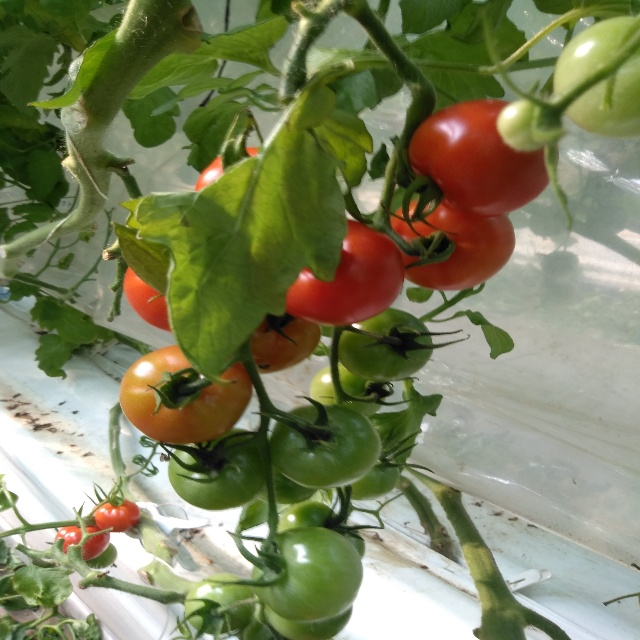l_fully_ripened: (408, 98, 559, 217), (285, 219, 405, 326), (385, 193, 517, 290), (123, 266, 172, 332), (54, 524, 110, 561), (95, 498, 140, 533)
l_green: (251, 527, 363, 622), (553, 17, 640, 138), (268, 403, 381, 489), (168, 429, 271, 511), (334, 307, 434, 382), (278, 500, 366, 559), (184, 572, 255, 634), (310, 362, 387, 417), (332, 448, 400, 501), (256, 452, 319, 505), (265, 604, 352, 640), (496, 99, 544, 152), (83, 542, 118, 569)
l_half_ripened: (119, 345, 253, 444), (251, 312, 321, 373)
